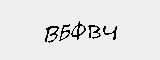Б: (57, 20, 69, 41)
В: (41, 24, 59, 44), (86, 22, 103, 43)
Ф: (71, 19, 86, 43)
Ч: (100, 24, 120, 41)
